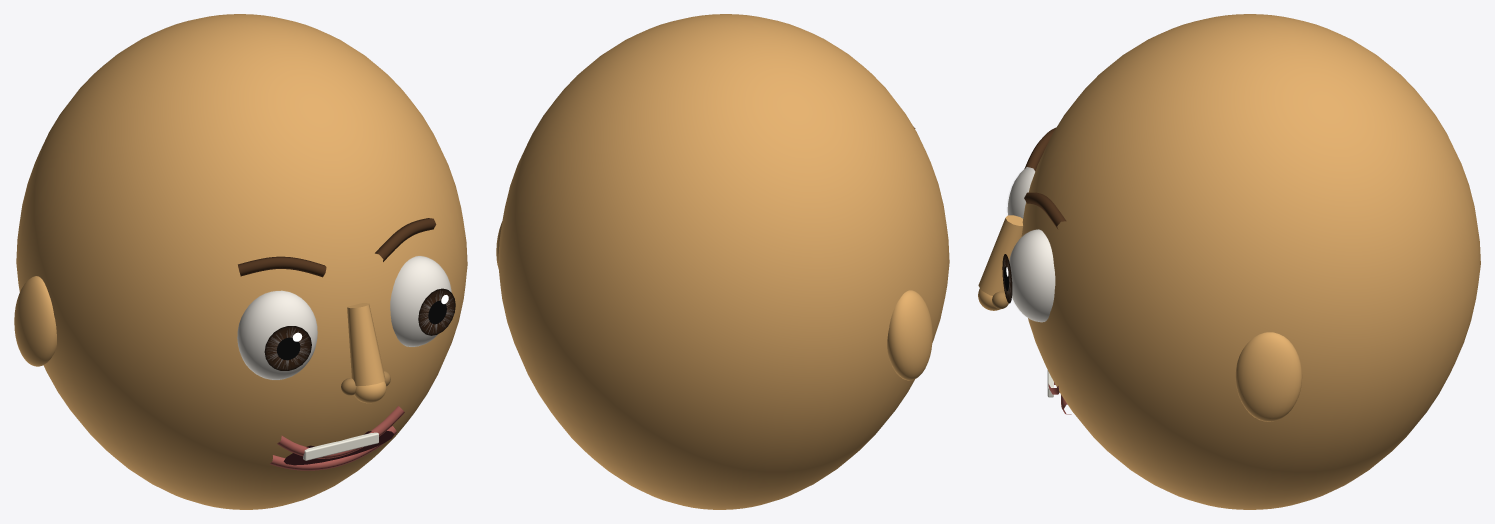
File: 02-grand-sourire.glb
3 views of the same model, side by side, from view 1: azimuth 30°, elevation 25°; view 2: azimuth 150°, elevation 25°; view 3: azimuth 270°, elevation 25° (orthographic).
Size of the model in its own units: 0.3087 by 0.321 by 0.3166.
11 materials, 1 textured.
